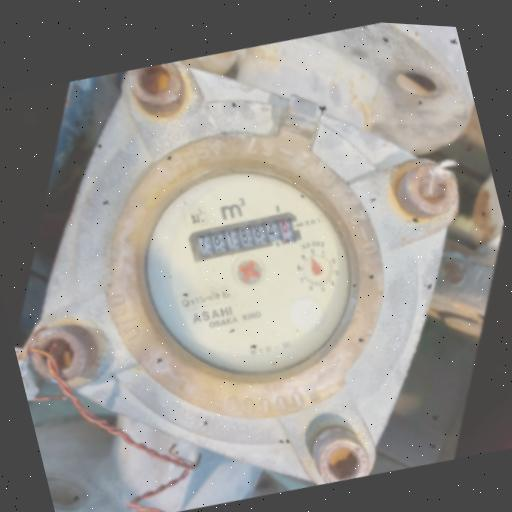1: (225, 227, 239, 250)
4: (265, 219, 280, 242)
7: (197, 232, 213, 255)
8: (278, 217, 293, 244), (211, 230, 226, 253), (251, 221, 266, 244), (238, 224, 253, 246)
border_water_meter_number: (187, 204, 304, 269)
